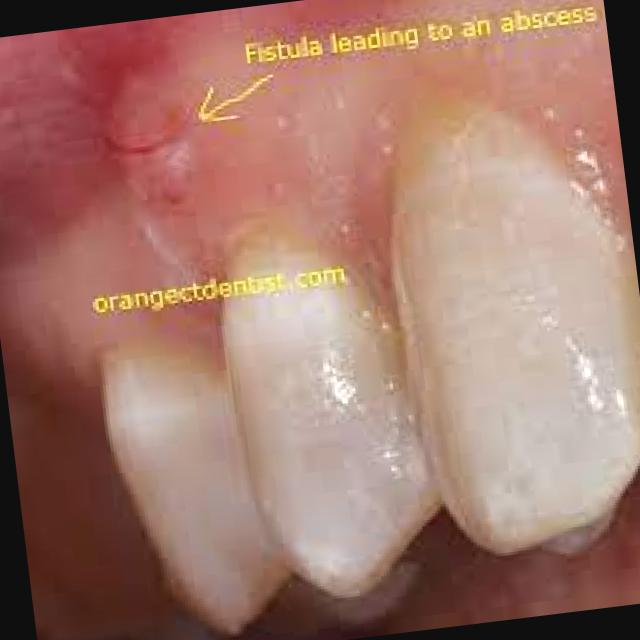abscess: (94, 81, 204, 233)
